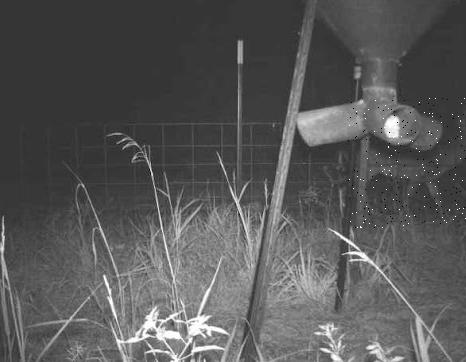Deer: (347, 98, 466, 228)
